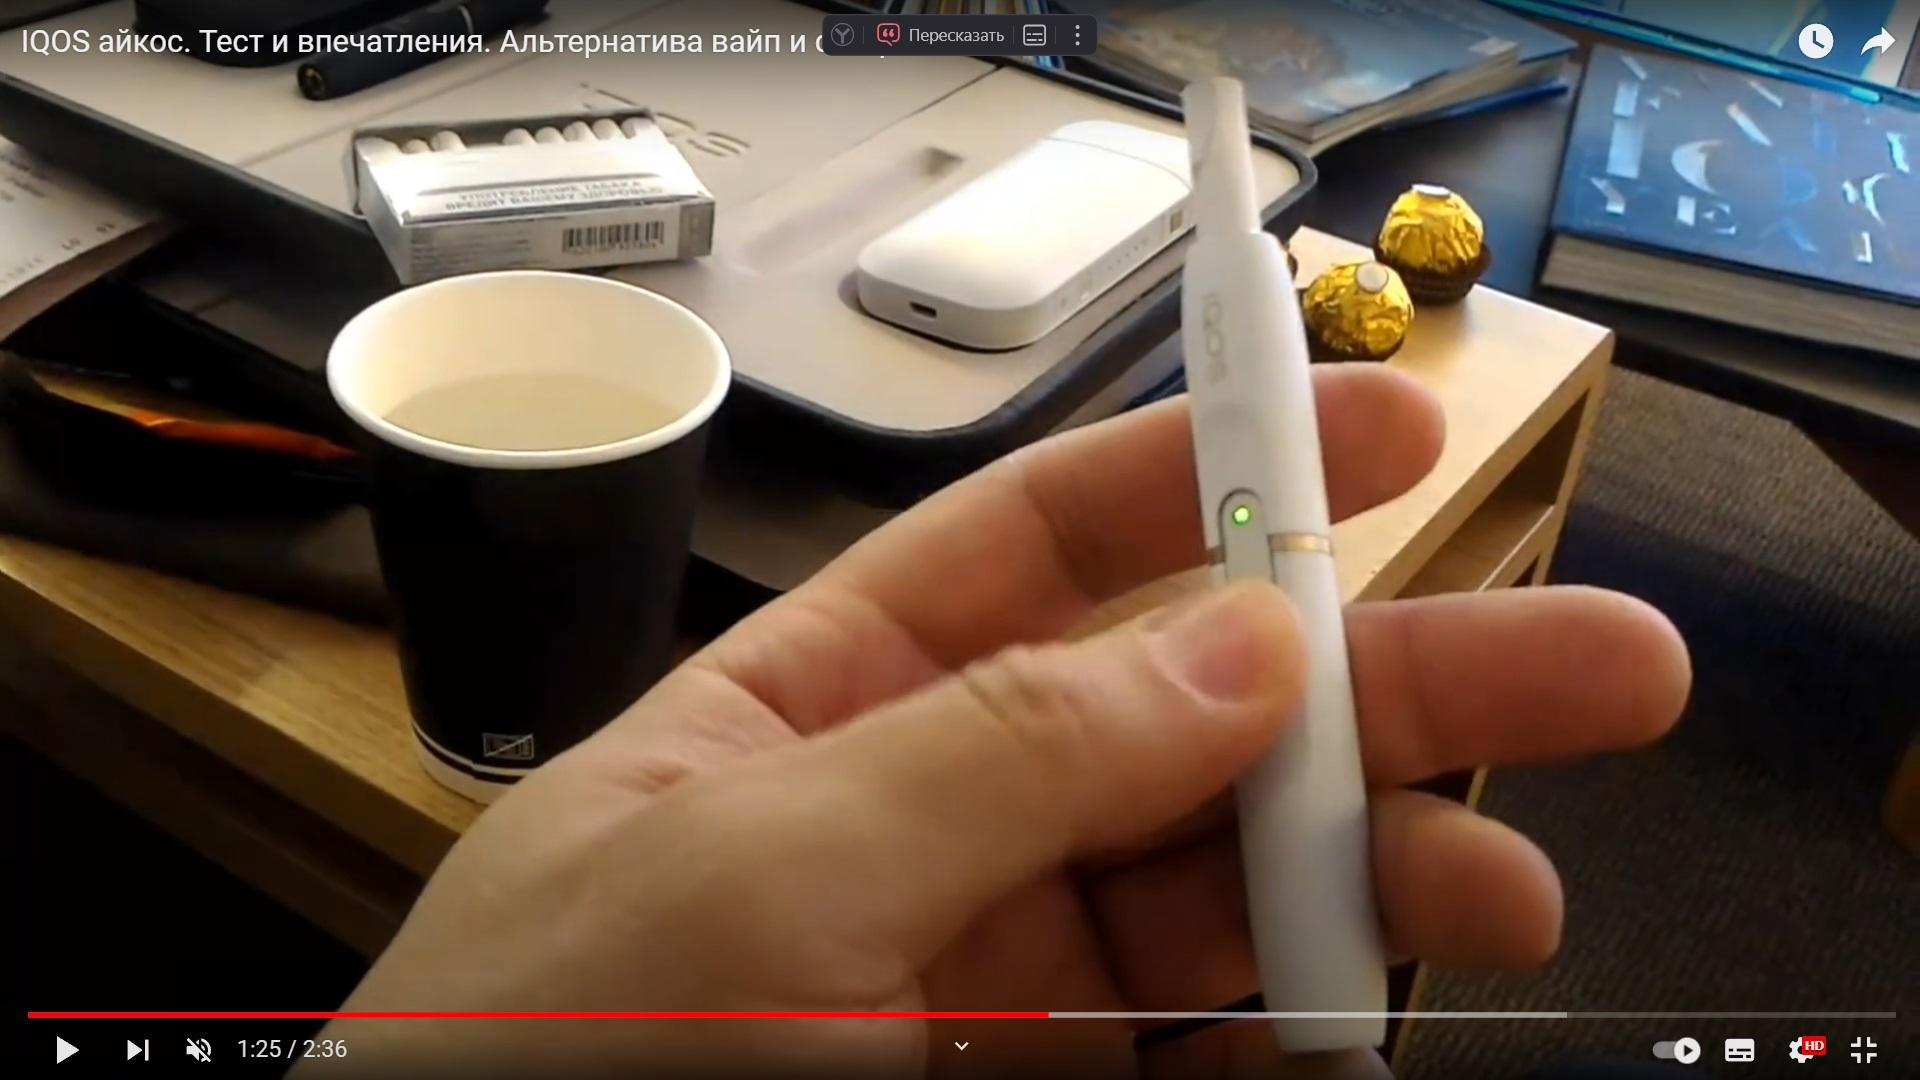iqos: (1182, 76, 1385, 1052)
